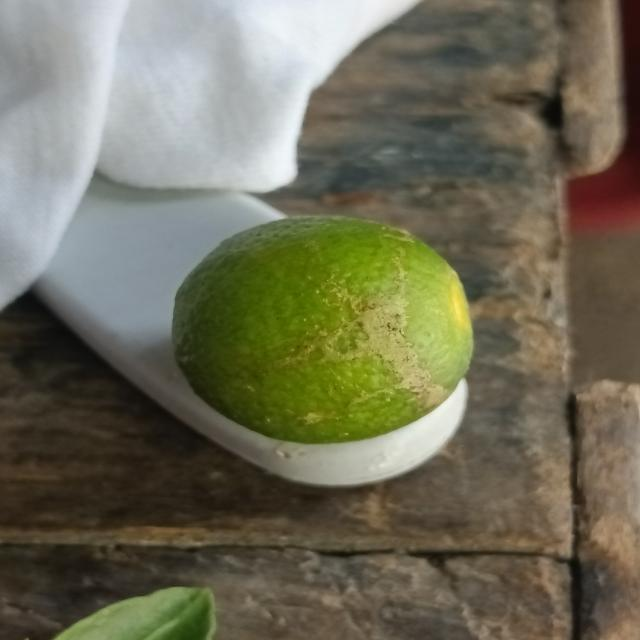thrips: (167, 213, 479, 444)
